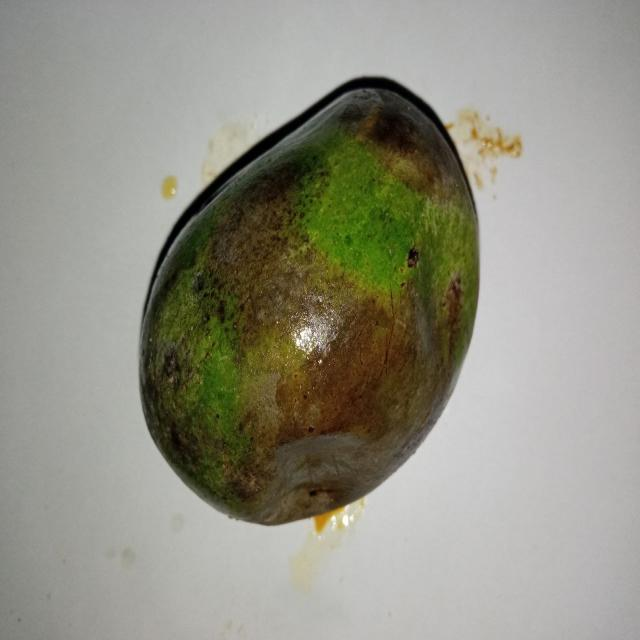rotten_mango: (135, 79, 479, 523)
